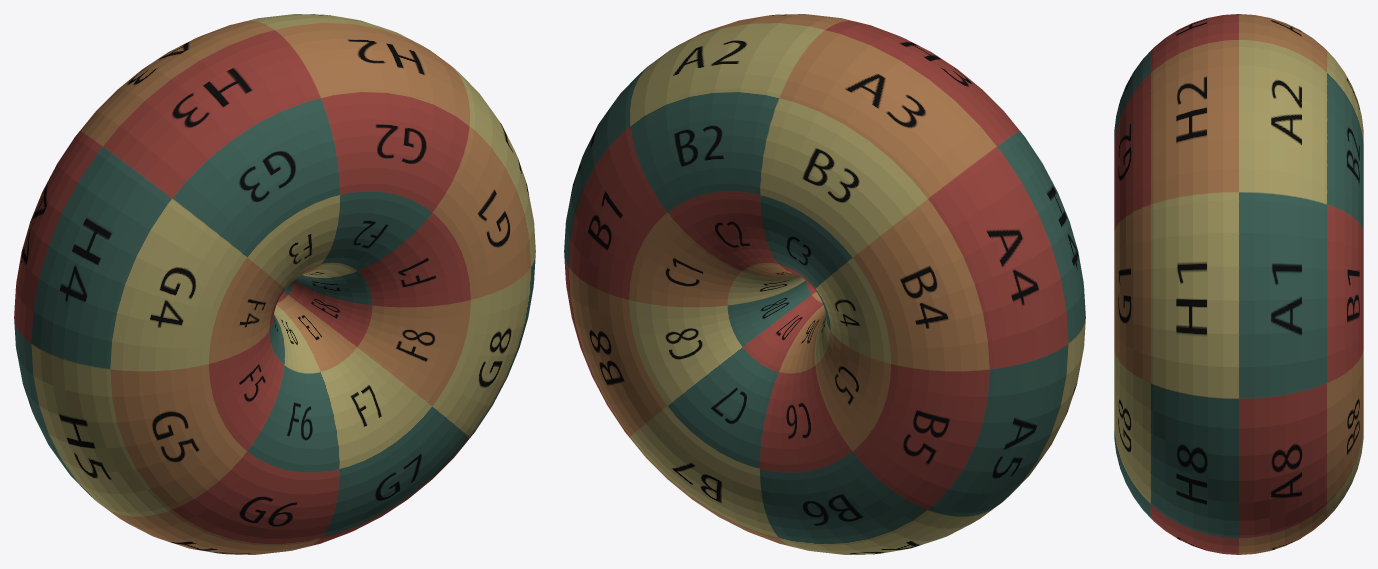
Rendered from texture_torus_R2_r29.glb.
3 views of the same model, side by side, from view 1: azimuth 30°, elevation 25°; view 2: azimuth 150°, elevation 25°; view 3: azimuth 270°, elevation 25° (orthographic). The views are drawn at different scales.
Parts seen in each view (by area): view 1: world; view 2: world; view 3: world.
Boxes of the visible parts, x1,y1,x2,y2 form: world: (14,14,535,554); world: (564,14,1085,554); world: (1114,14,1363,554).
Bounding box in the file's own units: 21.07 × 21.03 × 9.71.
Materials: 1 (1 with a texture image).
